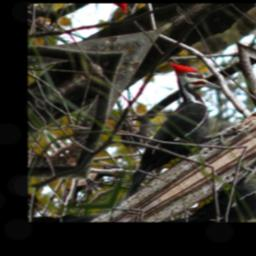Woodpecker: (62, 50, 256, 204)
